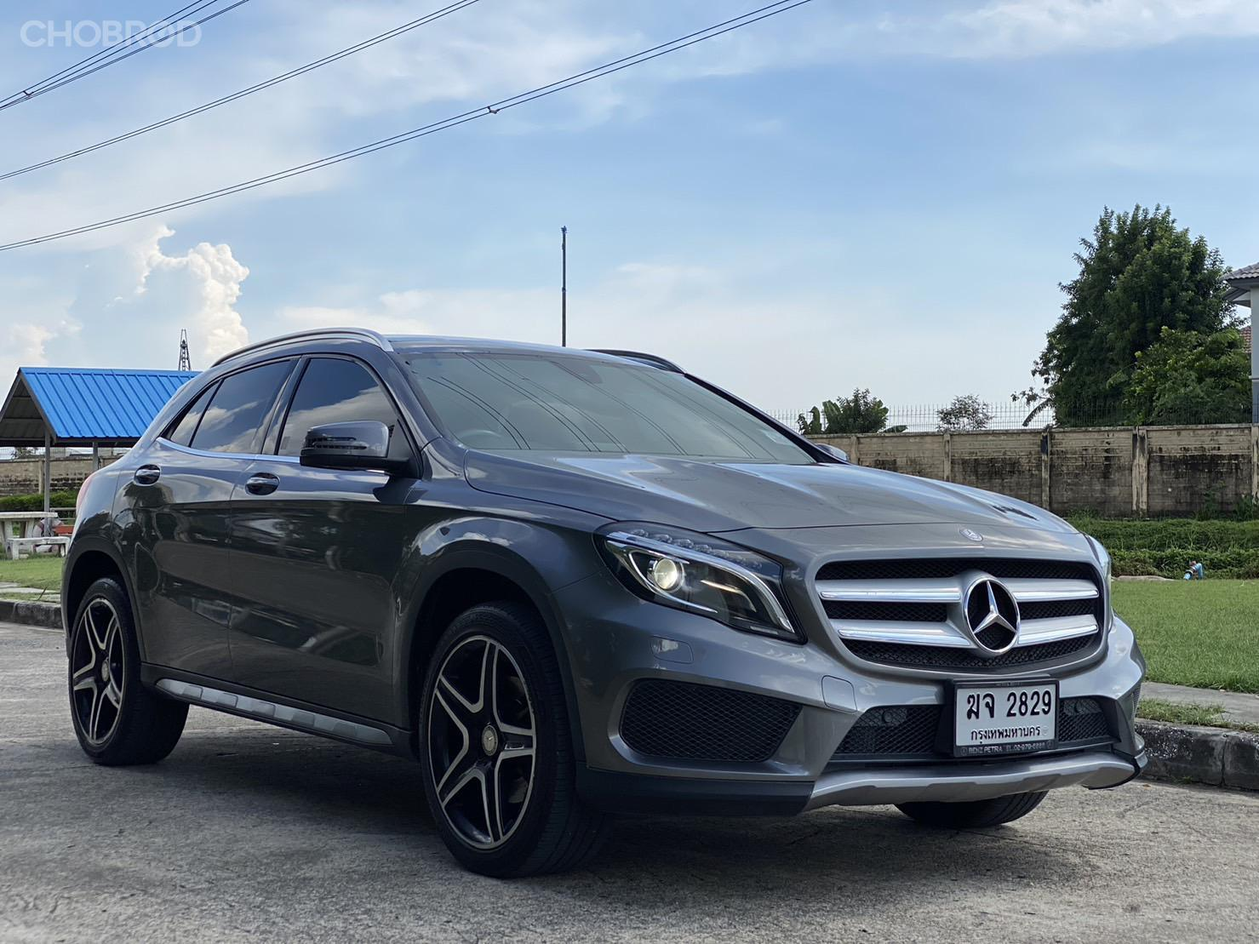license-plate: (944, 677, 1065, 760)
